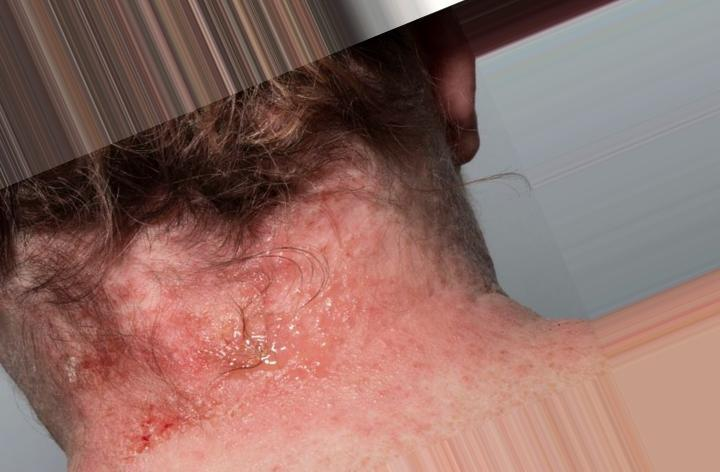Contact Dermatitis: (41, 199, 435, 361)
